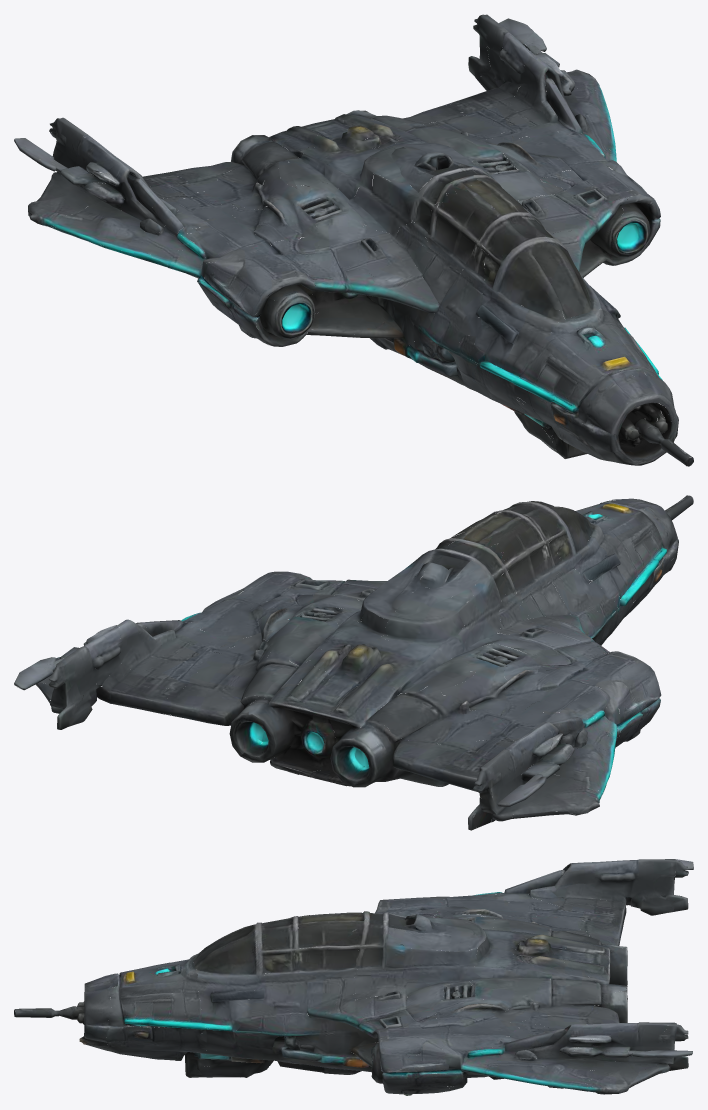
The model's file is player_ship.glb.
3 views of the same model, one above another, from view 1: azimuth 30°, elevation 25°; view 2: azimuth 150°, elevation 25°; view 3: azimuth 270°, elevation 25° (orthographic). The views are drawn at different scales.
Visible parts, largest first — view 1: tripo_node_02ec088b-49ba-4ba9-b5bd-5f01f9530d05; view 2: tripo_node_02ec088b-49ba-4ba9-b5bd-5f01f9530d05; view 3: tripo_node_02ec088b-49ba-4ba9-b5bd-5f01f9530d05.
Boxes of the visible parts, x1,y1,x2,y2 form: tripo_node_02ec088b-49ba-4ba9-b5bd-5f01f9530d05: [14, 14, 693, 466]; tripo_node_02ec088b-49ba-4ba9-b5bd-5f01f9530d05: [14, 495, 693, 830]; tripo_node_02ec088b-49ba-4ba9-b5bd-5f01f9530d05: [14, 859, 693, 1095].
Size of the model in its own units: 3.81 by 1.27 by 5.
Materials: 1 (1 with a texture image).
